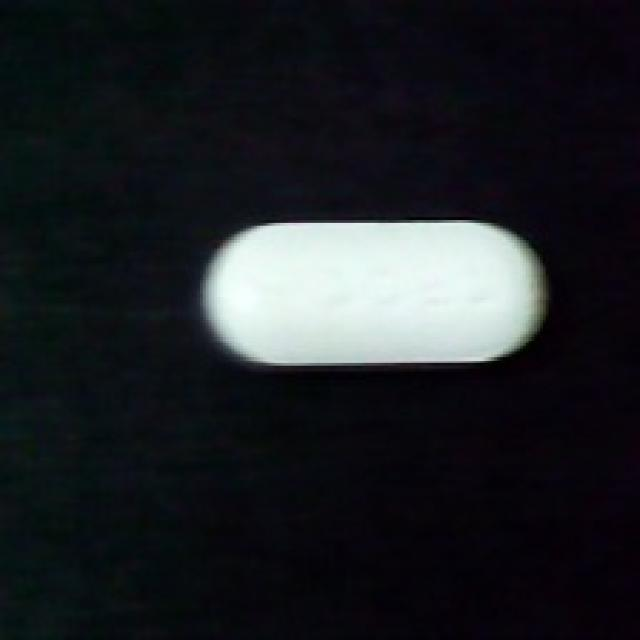no-defect: (197, 217, 551, 377)
